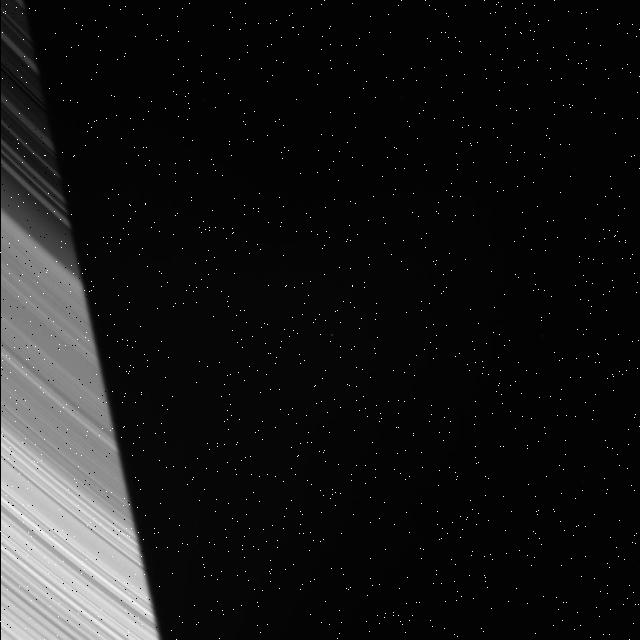Saturn: (0, 0, 166, 640)
